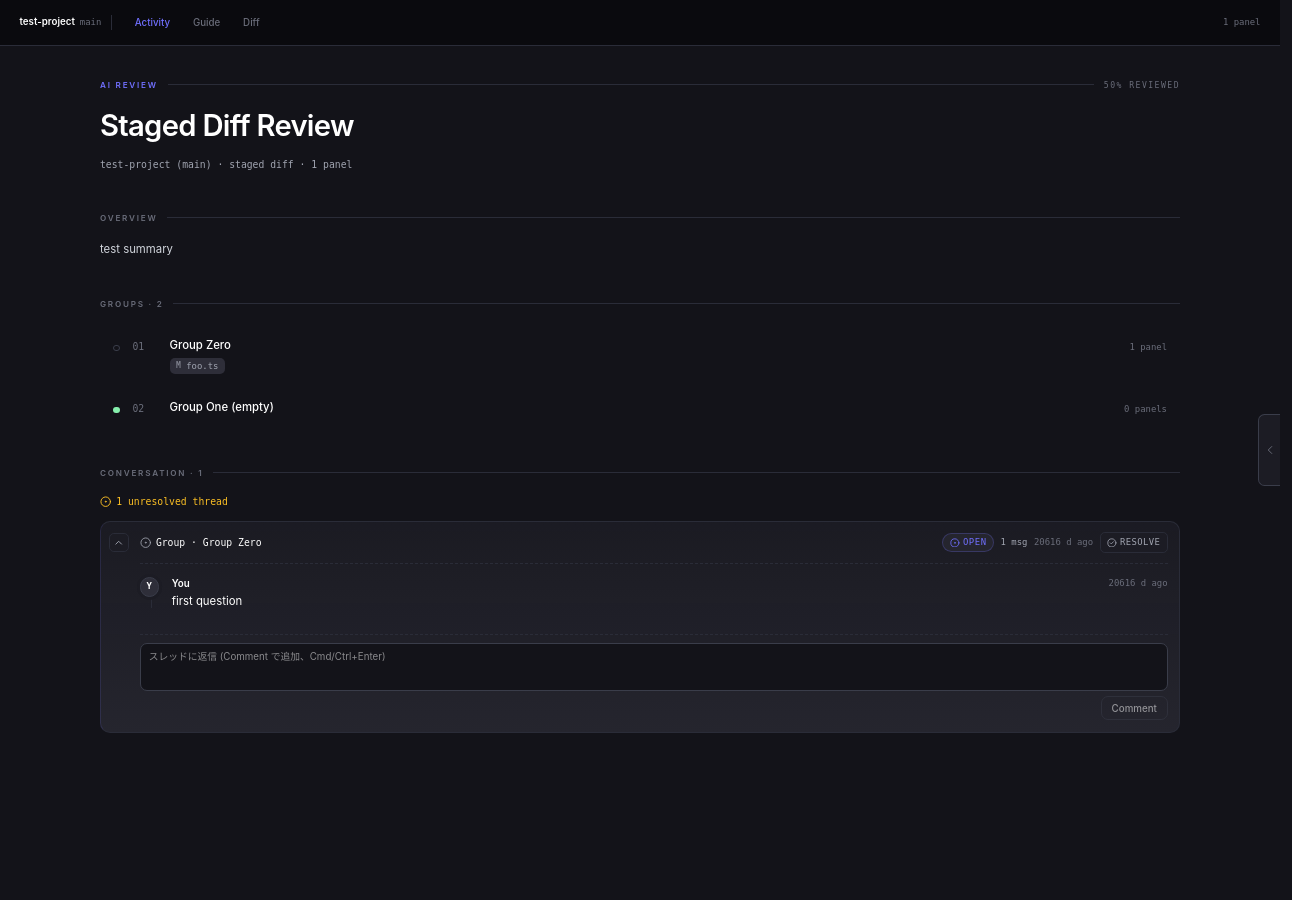
Test: Conversation カードの返信フォーム › Cmd+Enter でも送信できる
Type "keyboard reply" into the text box named "Reply to thread" at (654, 667), box [140,643,1168,691]
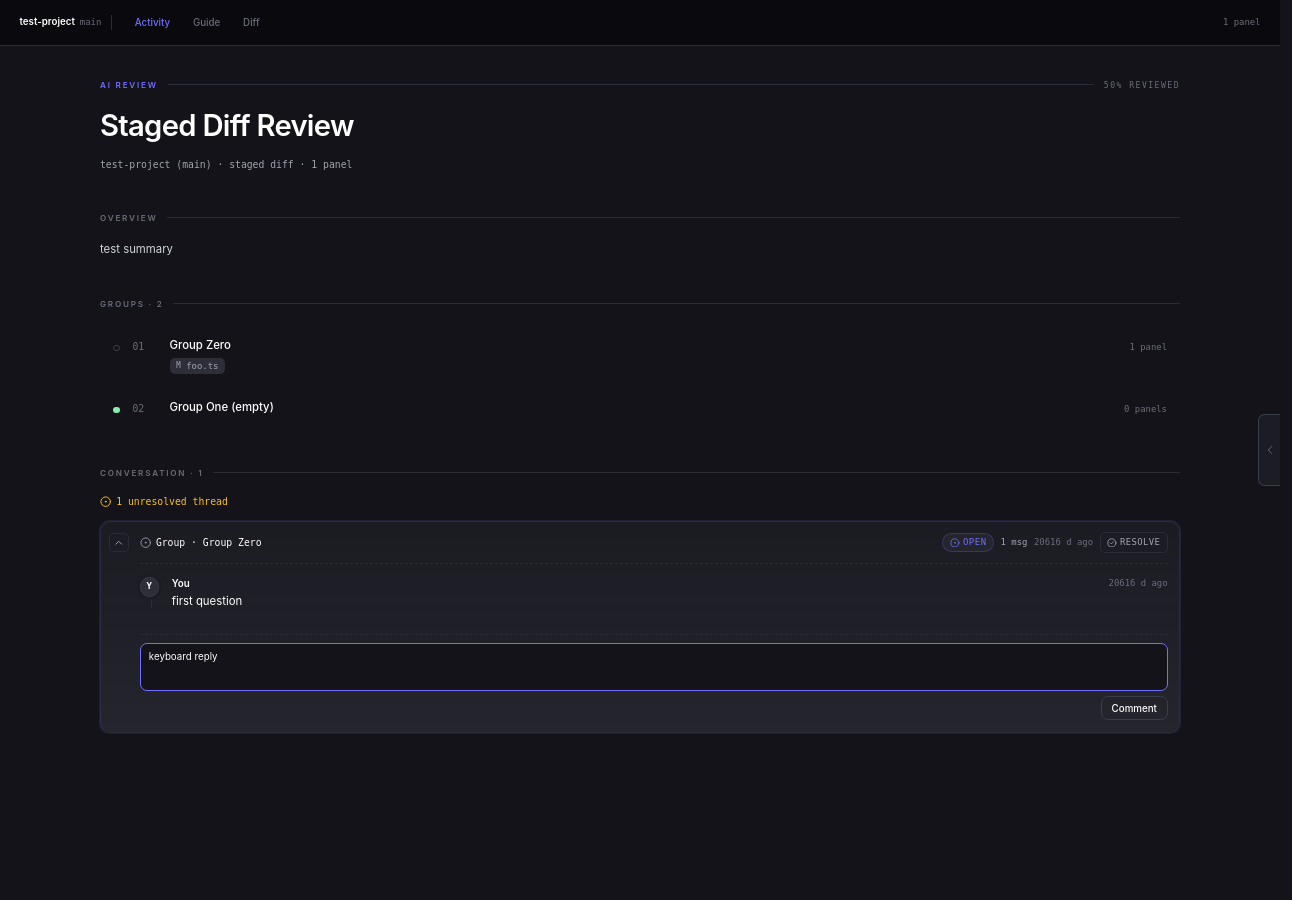
Type keys "{Meta>}{Enter}{/Meta}"
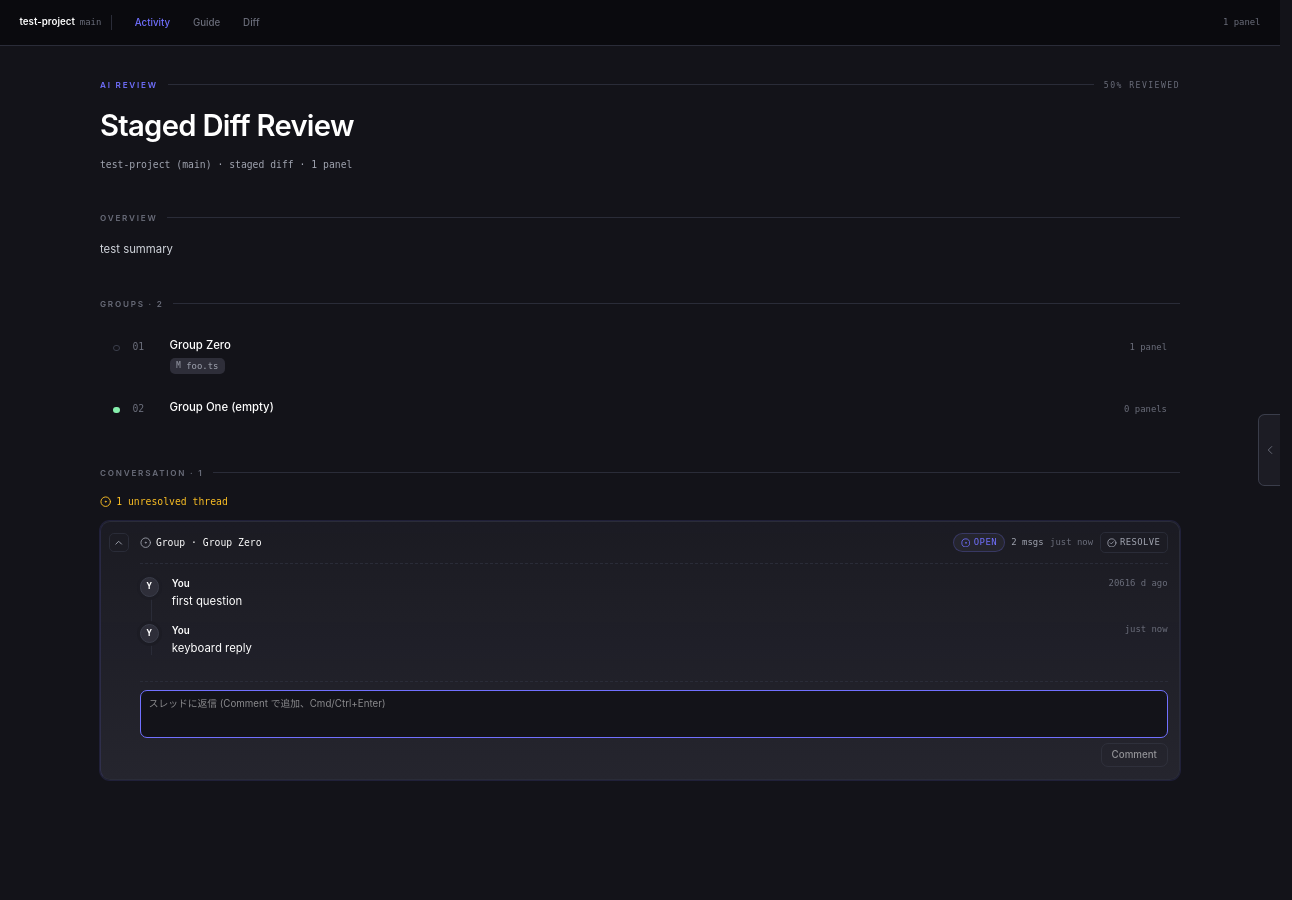
expect the text "keyboard reply" is shown: met, box [172,641,252,655]
expect the text box named "Reply to thread" is empty: met, box [140,690,1168,738]
